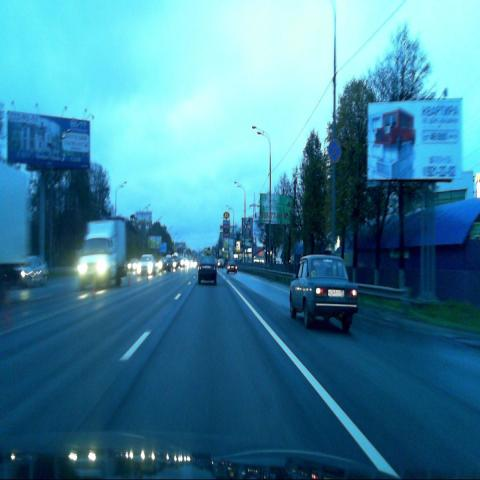3_27: (328, 139, 341, 164)
